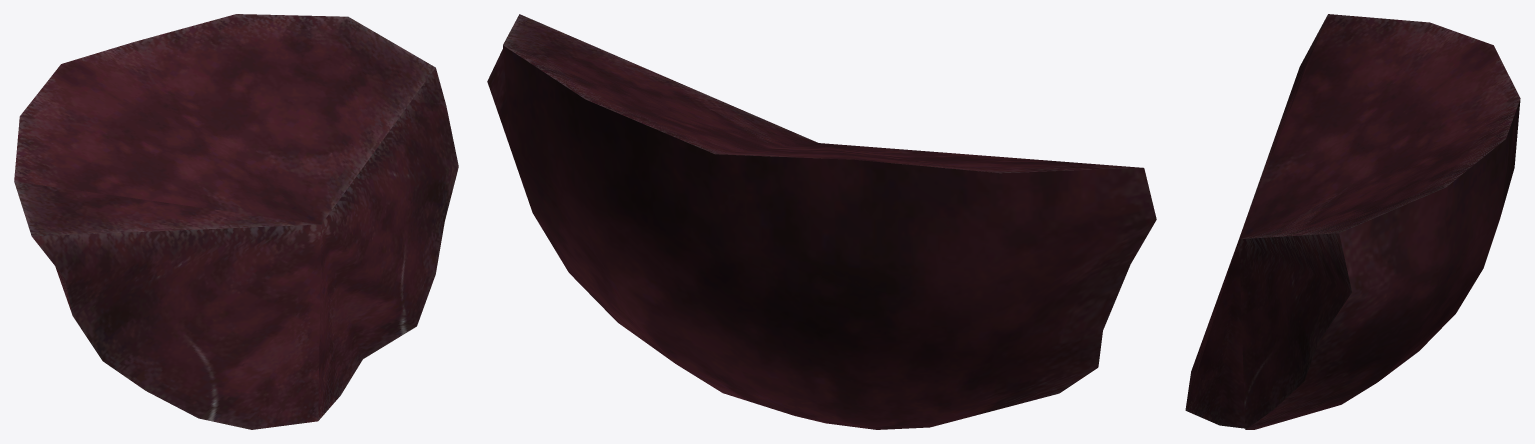
File: orbpiece_crimson.dae
3 views of the same model, side by side, from view 1: azimuth 30°, elevation 25°; view 2: azimuth 150°, elevation 25°; view 3: azimuth 270°, elevation 25° (orthographic). The views are drawn at different scales.
Visible parts, largest first — view 1: orb2; view 2: orb2; view 3: orb2.
Part boxes in pixels (bbox=[...]): orb2: bbox=[14, 14, 458, 429]; orb2: bbox=[487, 14, 1156, 429]; orb2: bbox=[1185, 14, 1520, 429].
Bounding box in the file's own units: 0.3605 × 0.2199 × 0.2178.
